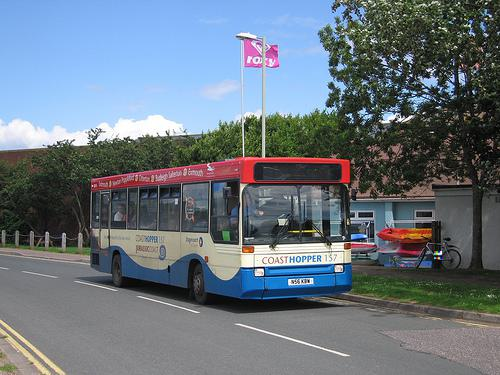bus: (92, 158, 354, 307)
car: (414, 238, 463, 273)
